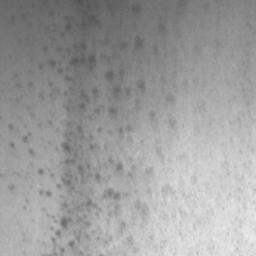Pitted surface: (0, 0, 208, 256), (223, 146, 256, 256), (150, 72, 177, 131), (238, 44, 250, 128), (11, 0, 46, 21), (176, 0, 187, 14), (158, 16, 166, 33), (157, 147, 164, 158)
